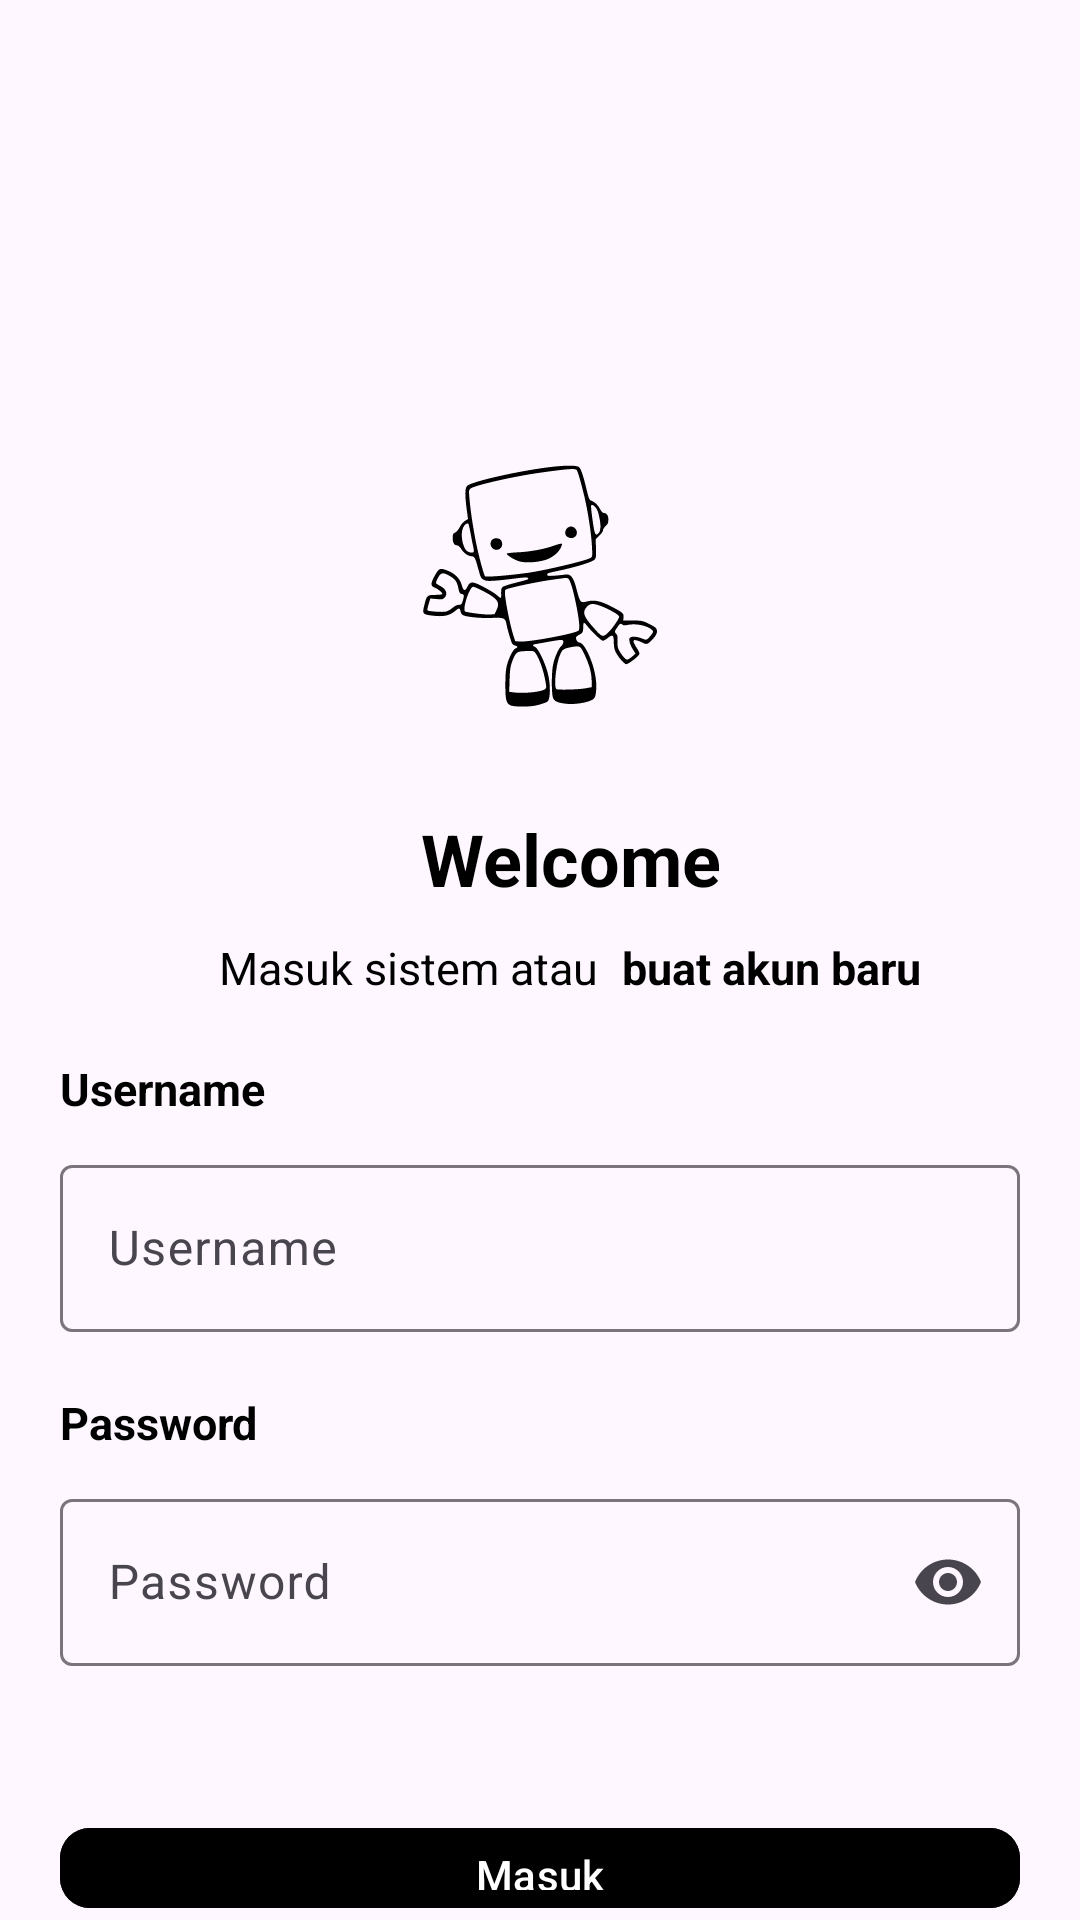

Icon click points for this 1080×1920 phone screenshot, format (x=x, y=y):
image Illustration: (x=540, y=586)
